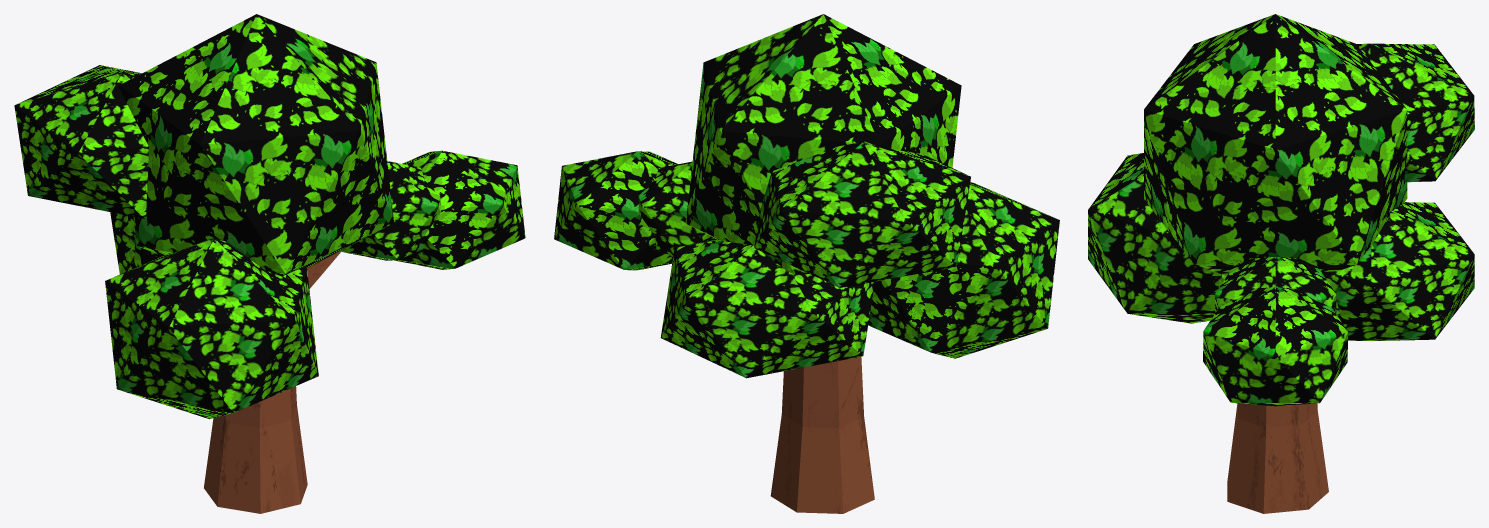
Rendered from tree2.fbx.
The picture shows the model from 3 angles, left to right: view 1: azimuth 30°, elevation 25°; view 2: azimuth 150°, elevation 25°; view 3: azimuth 270°, elevation 25°; orthographic projection.
Visible parts, largest first — view 1: Icosphere, Icosphere.013, Icosphere.016, Cylinder, Icosphere.006, Icosphere.008, Icosphere.017; view 2: Icosphere, Icosphere.016, Icosphere.017, Icosphere.013, Cylinder, Icosphere.006, Icosphere.008; view 3: Icosphere, Icosphere.017, Icosphere.006, Icosphere.013, Cylinder, Icosphere.016, Icosphere.008.
Boxes of the visible parts, <box> form: Icosphere: <box>119,14,393,276</box>; Icosphere.013: <box>105,238,318,419</box>; Icosphere.016: <box>14,65,148,218</box>; Cylinder: <box>204,251,340,513</box>; Icosphere.006: <box>394,150,525,269</box>; Icosphere.008: <box>339,161,441,260</box>; Icosphere.017: <box>110,212,161,274</box>; Icosphere: <box>685,14,961,275</box>; Icosphere.016: <box>754,141,970,287</box>; Icosphere.017: <box>660,239,874,378</box>; Icosphere.013: <box>868,182,1059,358</box>; Cylinder: <box>770,356,874,513</box>; Icosphere.006: <box>554,151,678,270</box>; Icosphere.008: <box>638,161,715,256</box>; Icosphere: <box>1144,14,1407,276</box>; Icosphere.017: <box>1322,202,1474,340</box>; Icosphere.006: <box>1203,287,1347,406</box>; Icosphere.013: <box>1088,153,1226,323</box>; Cylinder: <box>1227,403,1328,513</box>; Icosphere.016: <box>1357,43,1474,182</box>; Icosphere.008: <box>1215,257,1336,313</box>.
Bounding box in the file's own units: 1063 × 1095 × 803.
